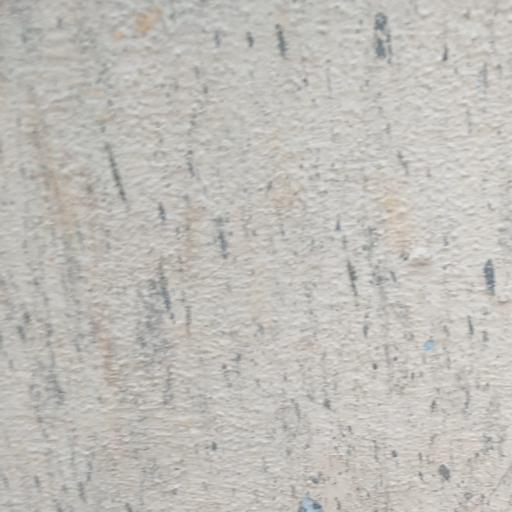stain: (33, 24, 512, 511)
